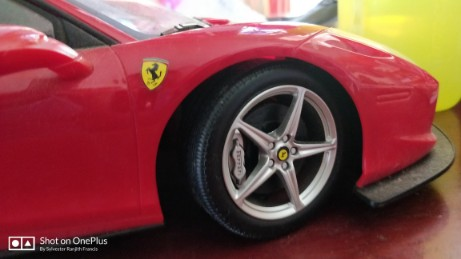unaligned_wheel: (179, 61, 344, 240)
